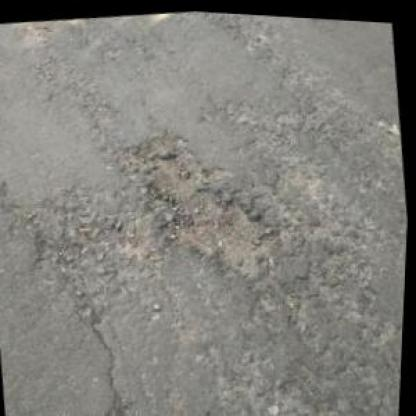pothole: (105, 111, 287, 291)
